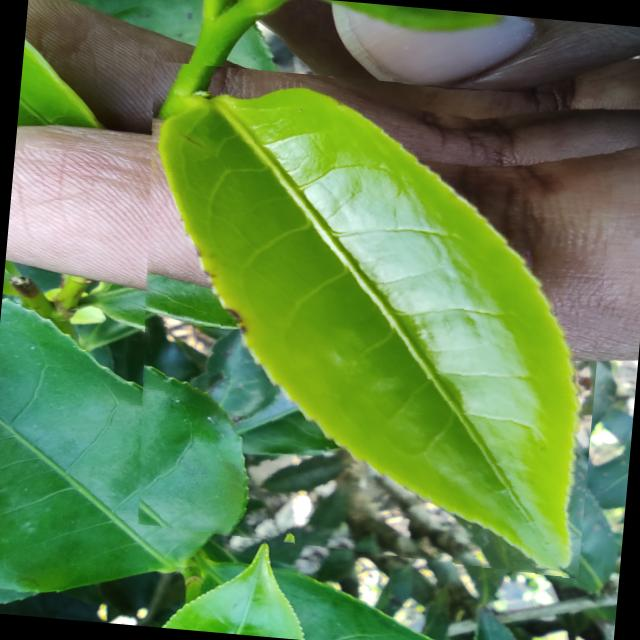Category B 2-4 days: (110, 61, 618, 580)
